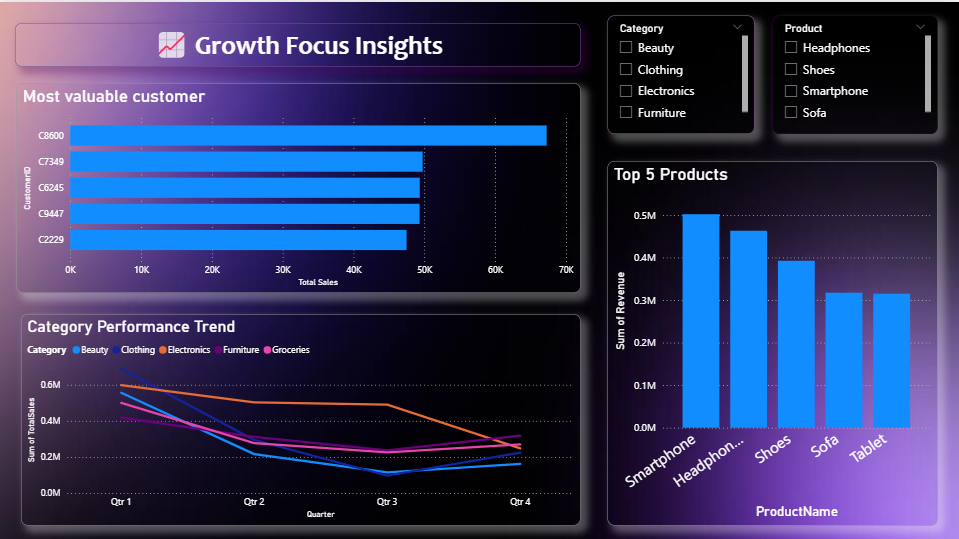

The page's visual inventory and layout, read from the dashboard file:
{"tool":"powerbi","page":{"name":"Growth Focus Insights","canvas":[1280,720],"ordinal":2},"visuals":[{"type":"columnChart","title":"Top 5 Products","fields":{"Y":["Sum(top5_products.Revenue)"],"Category":["top5_products.ProductName"]},"box":[810,212,440,486],"z":0},{"type":"lineChart","title":"Category Performance Trend","fields":{"Category":["category_sales_trend.Month.Variation.Date Hierarchy.Year","category_sales_trend.Month.Variation.Date Hierarchy.Quarter","category_sales_trend.Month.Variation.Date Hierarchy.Month","category_sales_trend.Month.Variation.Date Hierarchy.Day"],"Y":["Sum(category_sales_trend.TotalSales)"],"Series":["category_sales_trend.Category"]},"box":[28,416,746,282],"z":1000},{"type":"slicer","fields":{"Values":["top5_products.ProductName"]},"box":[1030,18,220,158],"z":2000},{"type":"slicer","fields":{"Values":["category_sales_trend.Category"]},"box":[810,18,196,158],"z":3000},{"type":"textbox","title":"📈 Growth Focus Insights","box":[20,28,754,58],"z":4000},{"type":"barChart","title":"Most valuable customer","fields":{"Category":["csv_db 7 retailtransactions.CustomerID"],"Y":["Measures_Managment.Total Sales"]},"box":[22,108,752,280],"z":5000}]}

Visuals, with their boxes in screenshot pixels (x1, y1, x2, y2), scaled from the page's 1280x720 canvas onto the 959x539 screenshot:
"Top 5 Products" columnChart: rect(607, 159, 937, 523)
"Category Performance Trend" lineChart: rect(21, 311, 580, 523)
slicer - top5_products.ProductName: rect(772, 13, 937, 132)
slicer - category_sales_trend.Category: rect(607, 13, 754, 132)
"📈 Growth Focus Insights" textbox: rect(15, 21, 580, 64)
"Most valuable customer" barChart: rect(16, 81, 580, 290)
